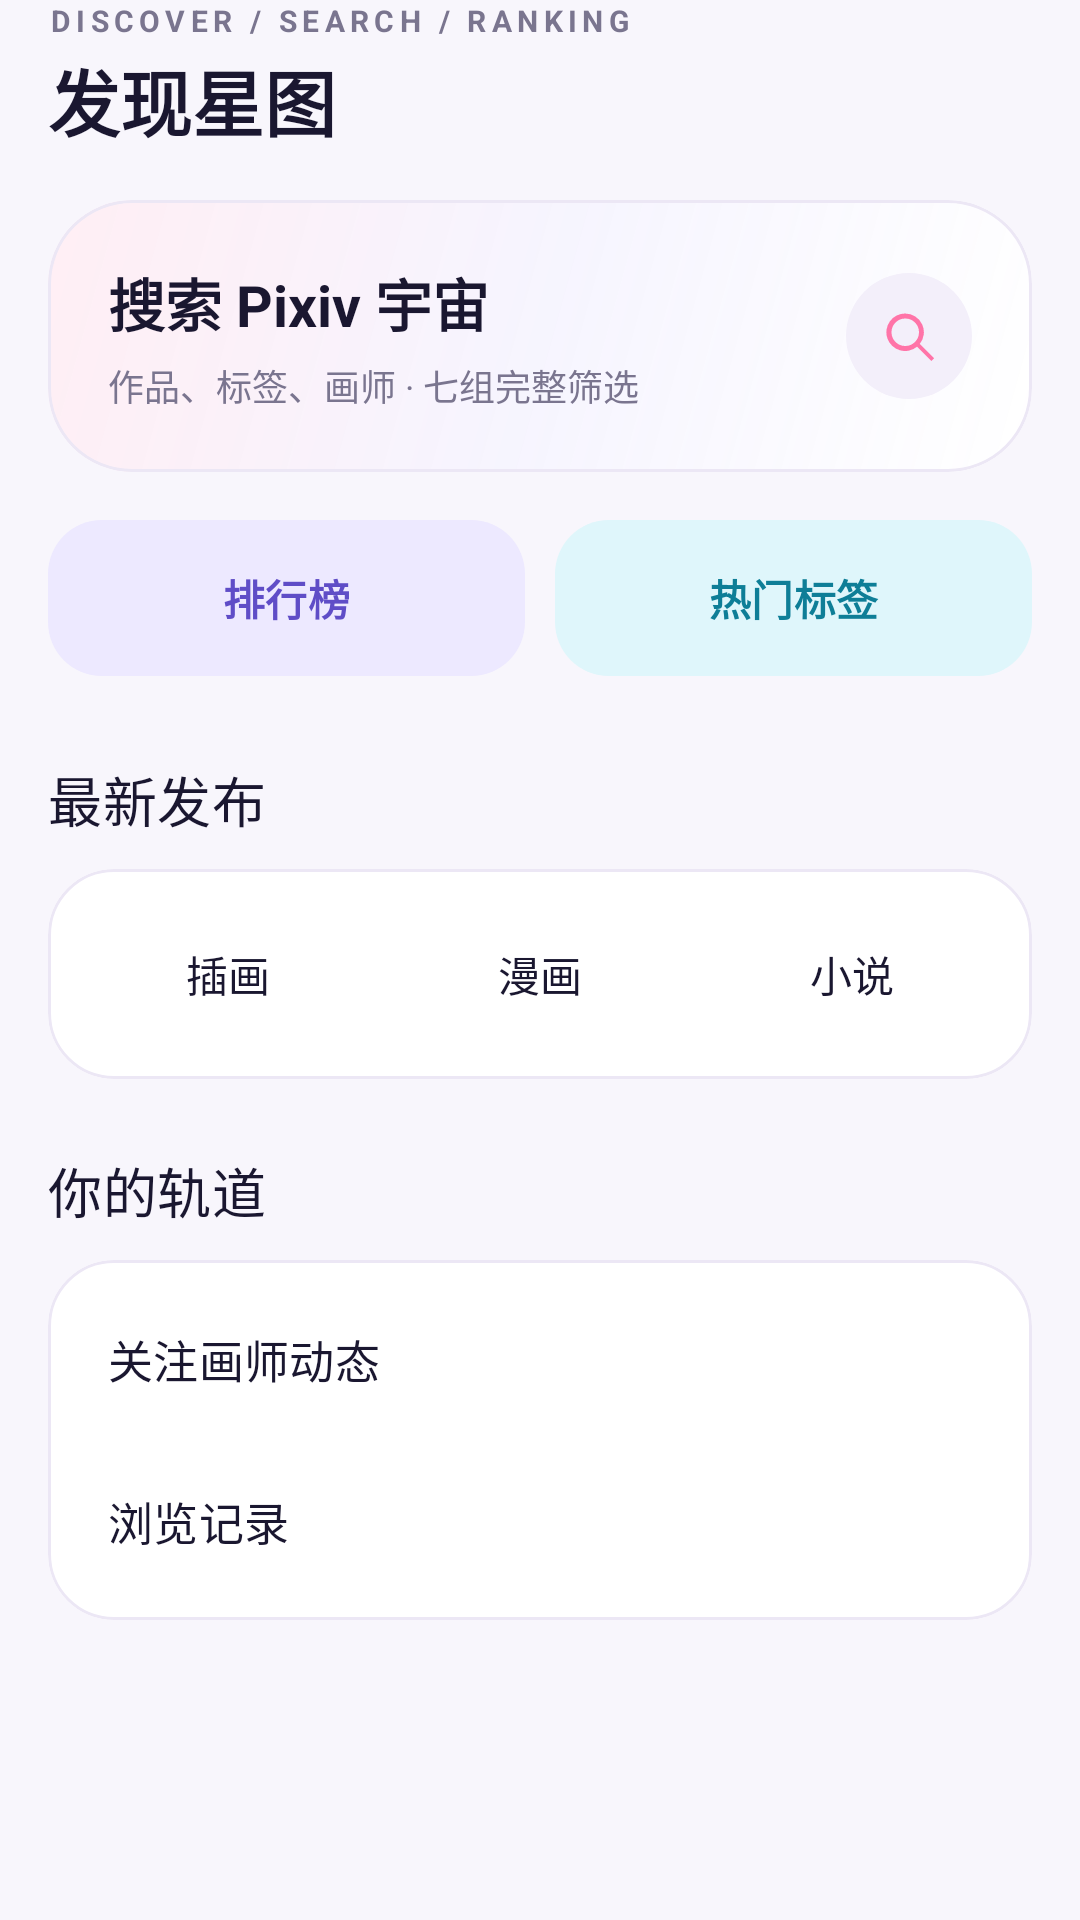

Screen size 1080 x 1920. Icon name, then its center in pixels as (x=x, y=y):
搜索: (x=909, y=336)
